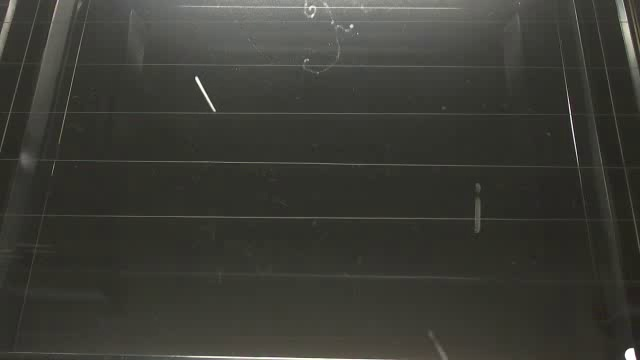Alfa: (194, 73, 218, 115), (472, 181, 483, 236)
